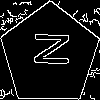N: (24, 30, 70, 68)
